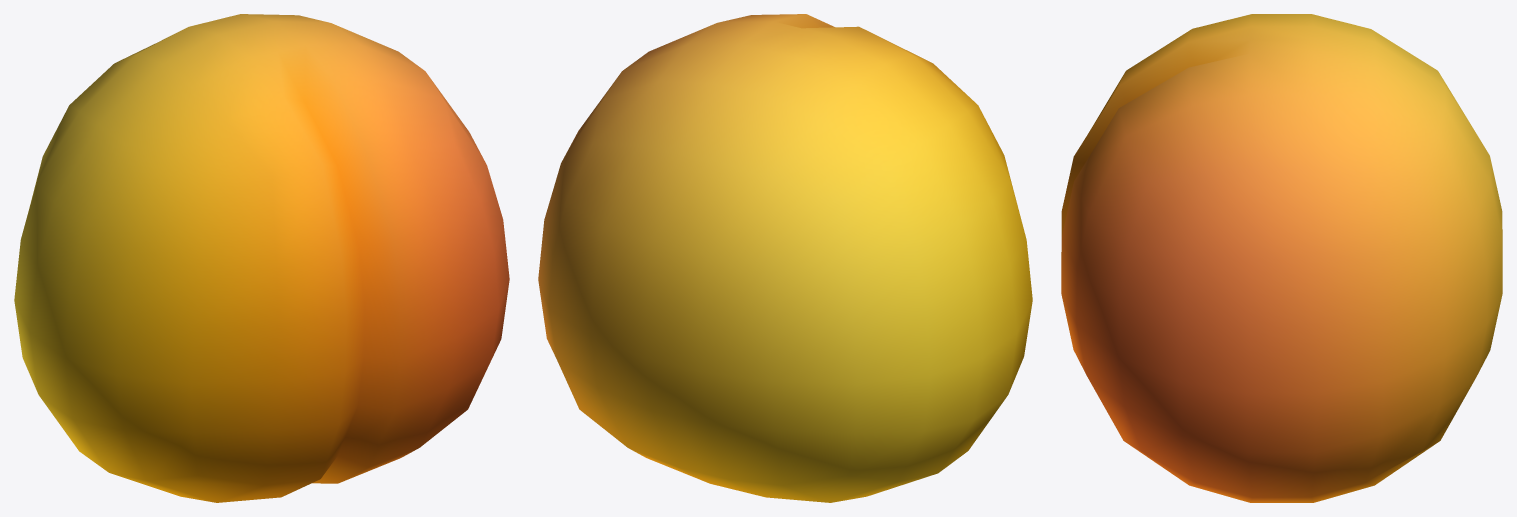
The model's file is peach_001.fbx.
3 renders of one model, left to right at view 1: azimuth 30°, elevation 25°; view 2: azimuth 150°, elevation 25°; view 3: azimuth 270°, elevation 25°, orthographic.
Visible parts, largest first — view 1: peach_001; view 2: peach_001; view 3: peach_001.
Part boxes in pixels (x1,y1,x2,y2): peach_001: [14, 14, 509, 502]; peach_001: [538, 14, 1032, 502]; peach_001: [1061, 14, 1502, 502].
Bounding box in the file's own units: 8.65 × 7.8 × 8.31.
